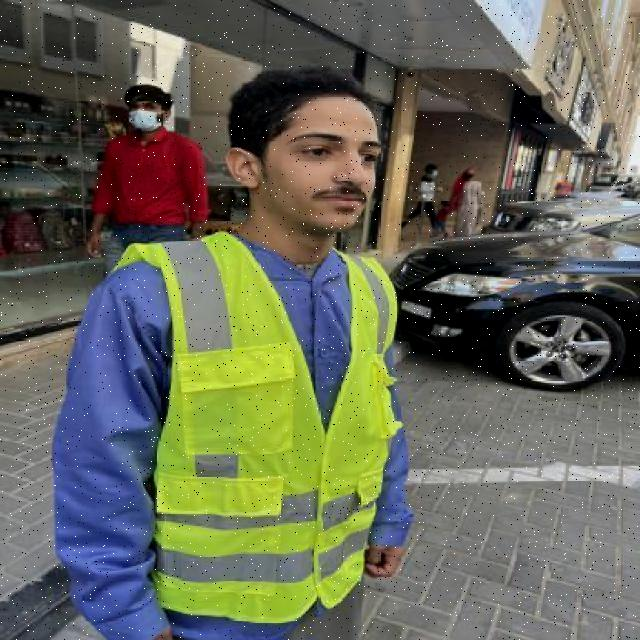Mask: (131, 235, 394, 614)
